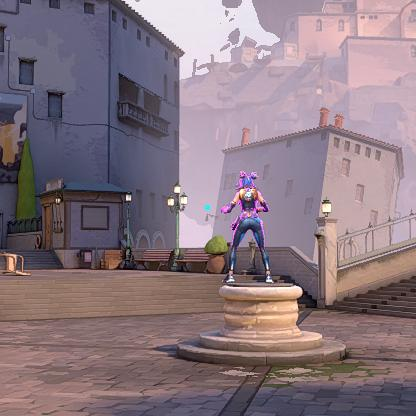enemyBody: (242, 190, 260, 221)
enemyHead: (241, 178, 253, 188)
